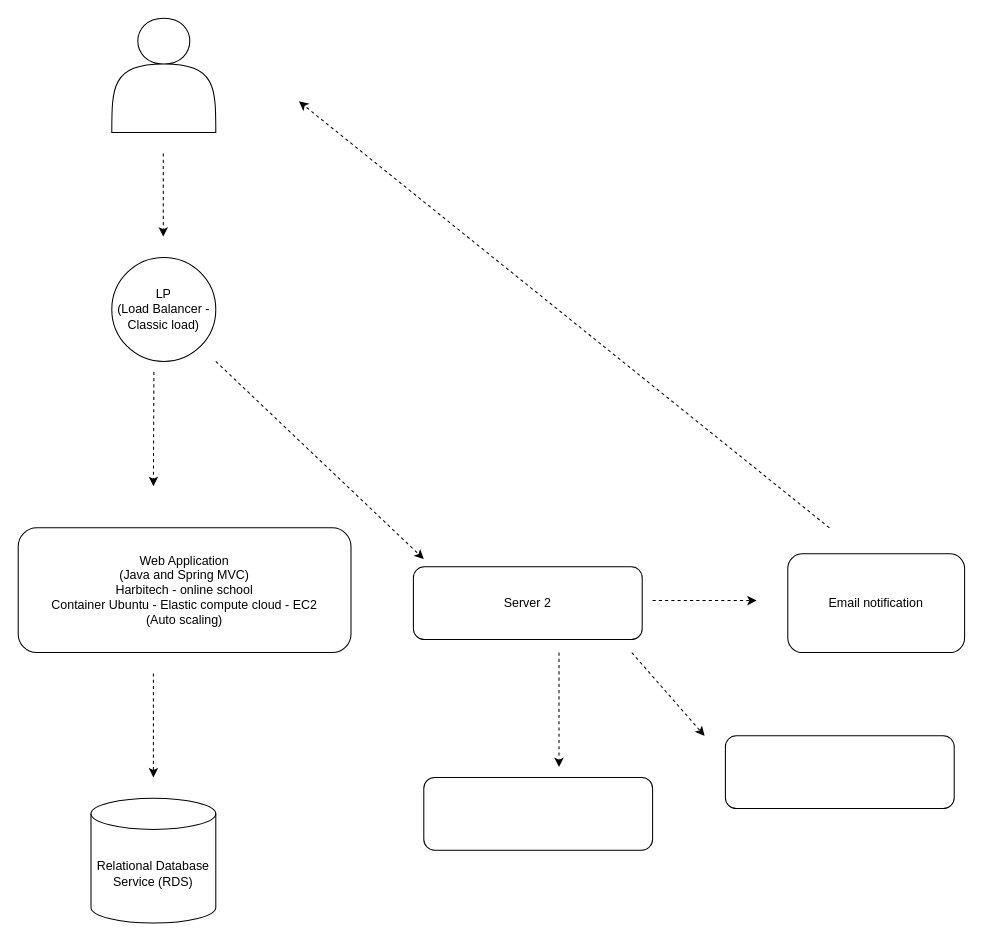
This 983x941 diagram has some shape labels left out. The shapes that lost their labels are listed below. From the top down, each one's centre as x and y in pixels, then its label:
point 839,772: Bucket(Imagens)
point 538,813: Server cache Redis
